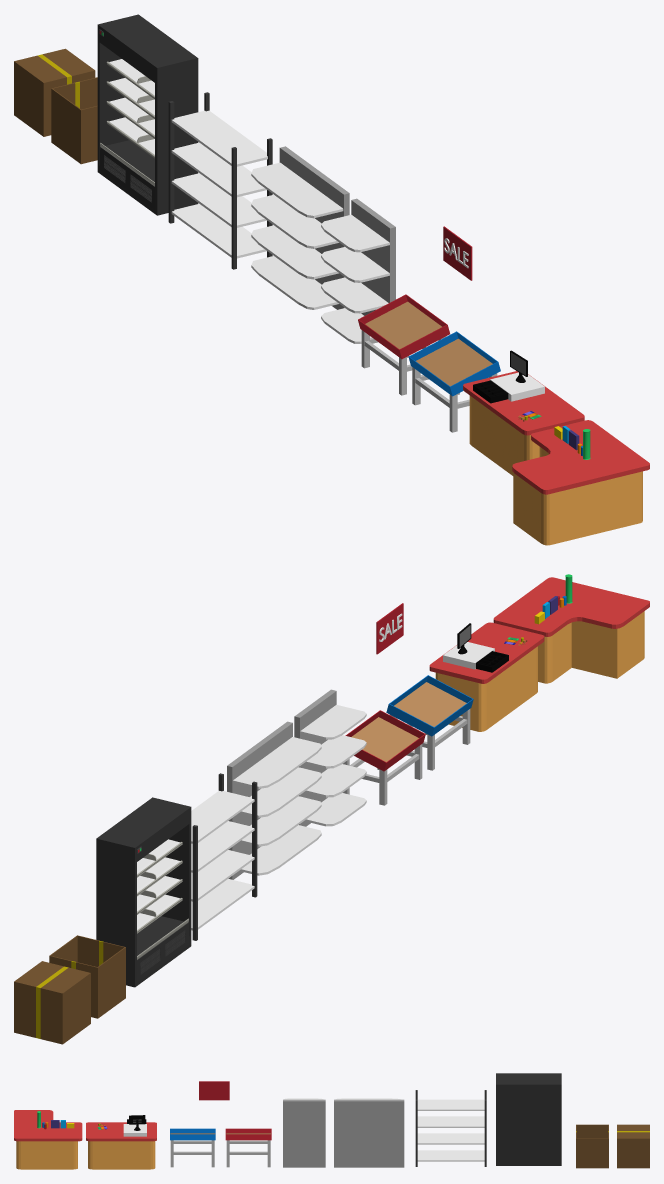
Rendered from lowpoly_storesupermarket_props.glb.
3 renders of one model, top to bottom at view 1: azimuth 30°, elevation 25°; view 2: azimuth 150°, elevation 25°; view 3: azimuth 270°, elevation 25°, orthographic. The views are drawn at different scales.
Parts seen in each view (by area): view 1: Fridge, Counter_Corner, Shelf, Rack, Shelf2, Counter, DisplayShelf1, DisplayShelf2, Box_Closed, Box_Open, Sale-Sign, Register; view 2: Fridge, Counter_Corner, Shelf, Rack, Counter, Shelf2, Box_Closed, DisplayShelf2, DisplayShelf1, Box_Open, Sale-Sign, Register; view 3: Fridge, Shelf, Rack, Counter_Corner, Shelf2, Counter, Box_Closed, Box_Open, DisplayShelf1, DisplayShelf2, Sale-Sign, Register (+1 smaller).
Part boxes in pixels (x1,y1,x2,y2): Fridge: (97, 14, 198, 215); Counter_Corner: (512, 420, 649, 545); Shelf: (251, 146, 349, 309); Rack: (168, 92, 272, 269); Shelf2: (321, 198, 395, 343); Counter: (463, 371, 584, 475); DisplayShelf1: (358, 294, 449, 395); DisplayShelf2: (408, 331, 500, 432); Box_Closed: (14, 48, 95, 136); Box_Open: (51, 77, 97, 164); Sale-Sign: (443, 226, 472, 280); Register: (490, 372, 544, 401); Fridge: (96, 797, 191, 987); Counter_Corner: (493, 577, 649, 683); Shelf: (227, 721, 321, 879); Rack: (191, 773, 257, 940); Counter: (429, 622, 544, 731); Shelf2: (294, 689, 366, 826); Box_Closed: (14, 961, 90, 1044); DisplayShelf2: (386, 675, 473, 770); DisplayShelf1: (343, 710, 425, 805); Box_Open: (49, 935, 125, 1018); Sale-Sign: (376, 603, 403, 654); Register: (443, 642, 494, 669); Fridge: (496, 1073, 561, 1165); Shelf: (334, 1098, 404, 1167); Rack: (415, 1090, 486, 1166); Counter_Corner: (14, 1110, 82, 1169); Shelf2: (283, 1098, 325, 1167); Counter: (86, 1122, 156, 1169); Box_Closed: (617, 1124, 649, 1168); Box_Open: (576, 1124, 608, 1168); DisplayShelf1: (225, 1128, 271, 1167); DisplayShelf2: (170, 1128, 215, 1167); Sale-Sign: (199, 1081, 229, 1100); Register: (123, 1124, 146, 1136).
Size of the model in its own units: 1.67 by 2.31 by 15.5.
1 material, 1 textured.
